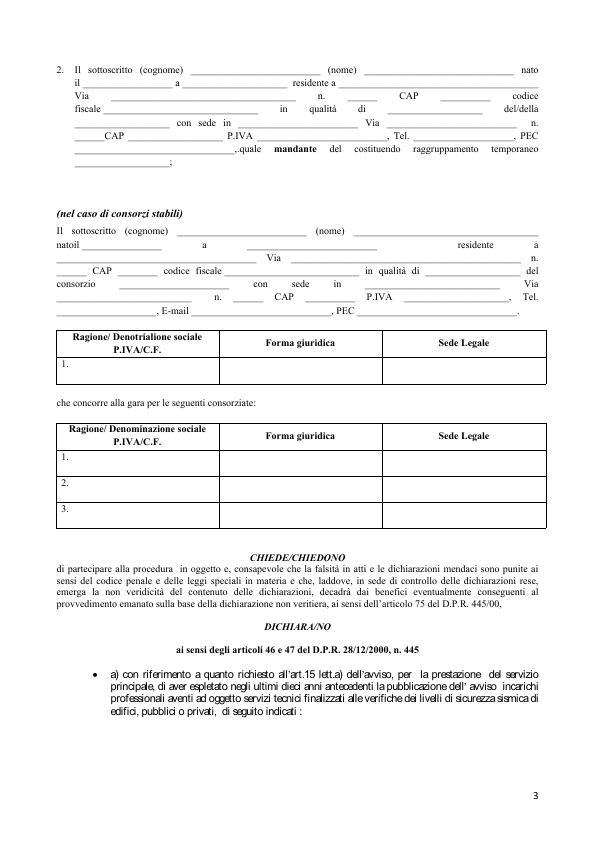input: (55, 253, 259, 266), (291, 254, 522, 265), (352, 226, 542, 239), (363, 64, 516, 78), (104, 104, 258, 117), (357, 308, 520, 320), (188, 62, 322, 76), (110, 93, 296, 103), (337, 80, 540, 89), (222, 266, 360, 279), (174, 227, 308, 240), (245, 240, 379, 253), (56, 292, 194, 304), (72, 146, 236, 156), (190, 307, 334, 318), (385, 118, 516, 130), (365, 280, 501, 291), (235, 119, 359, 131), (412, 129, 516, 143), (256, 131, 387, 142), (183, 79, 290, 91), (118, 280, 230, 291), (385, 105, 484, 117), (403, 293, 511, 304), (126, 132, 224, 144), (73, 119, 170, 131), (425, 266, 521, 278), (81, 79, 173, 91), (73, 158, 170, 169), (54, 306, 158, 316), (80, 240, 164, 252), (305, 293, 355, 304), (440, 93, 491, 103), (117, 267, 159, 278), (345, 93, 379, 104), (55, 266, 88, 277), (232, 294, 264, 305), (75, 134, 104, 144)
table: (51, 418, 551, 535), (51, 326, 550, 392)
text: (111, 621, 541, 721), (53, 551, 542, 613), (237, 144, 540, 155), (52, 396, 258, 410), (55, 64, 184, 76), (55, 208, 185, 219), (55, 225, 169, 237), (248, 278, 342, 289), (162, 266, 221, 276), (364, 266, 421, 276), (327, 61, 357, 77), (53, 280, 98, 290), (502, 103, 541, 114), (308, 103, 338, 117), (291, 79, 335, 88), (159, 305, 189, 317), (455, 241, 496, 249), (314, 227, 346, 237), (512, 90, 540, 101), (364, 291, 394, 301), (225, 131, 252, 142), (73, 104, 101, 114), (270, 291, 295, 302), (519, 64, 543, 75), (398, 89, 420, 101), (103, 131, 125, 142), (54, 240, 80, 249), (90, 266, 113, 276), (519, 131, 539, 142), (72, 90, 91, 101), (390, 130, 409, 141), (522, 278, 541, 289), (196, 118, 216, 128), (335, 306, 355, 316), (264, 253, 282, 263), (364, 116, 380, 127), (174, 119, 192, 128), (526, 266, 541, 276), (278, 103, 289, 113), (315, 91, 325, 101), (356, 104, 367, 113), (222, 117, 231, 128), (530, 242, 542, 250), (529, 119, 539, 128), (212, 294, 223, 302), (529, 255, 541, 262), (72, 79, 80, 88), (199, 242, 208, 249), (174, 79, 180, 88)
